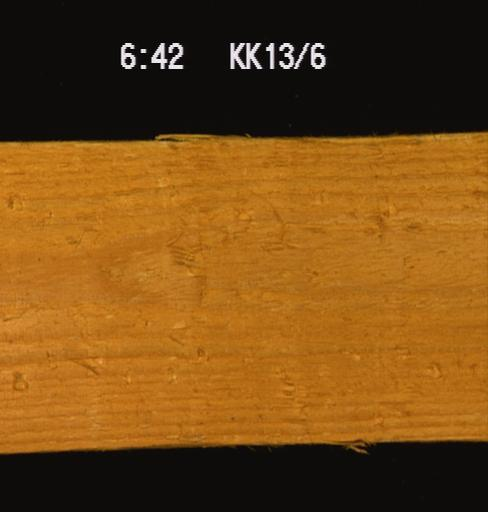wave: (153, 127, 467, 149)
